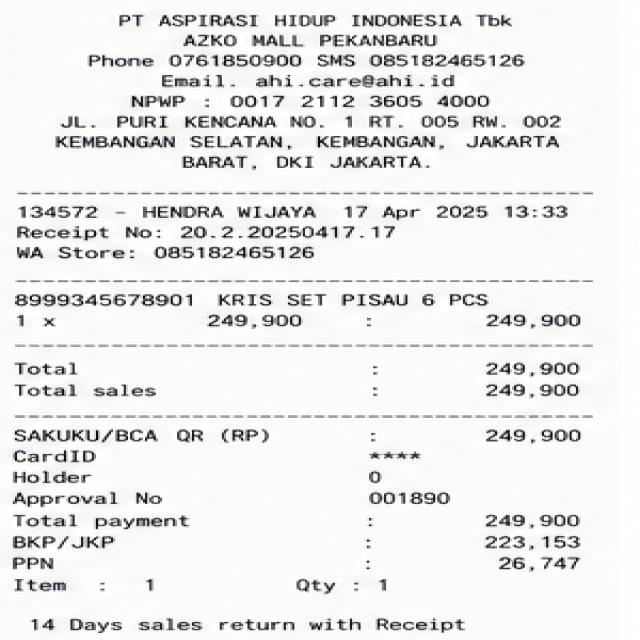date: (335, 202, 573, 223)
store: (110, 10, 525, 51)
total: (9, 512, 584, 534)
